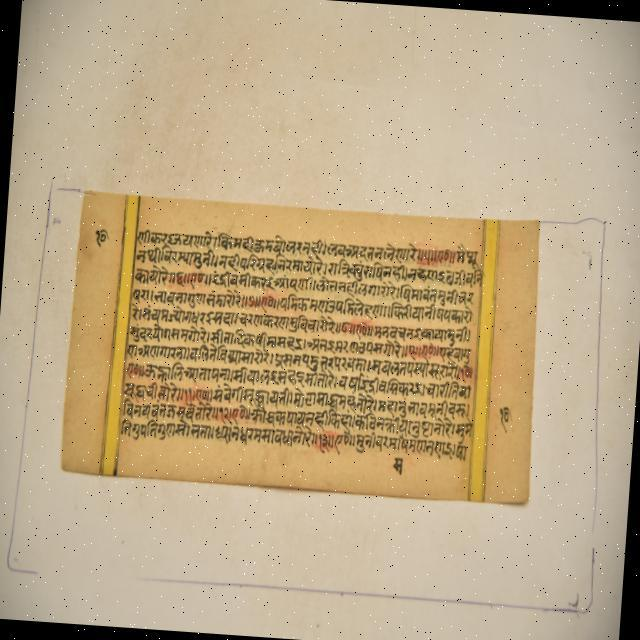text_paragraph: (60, 190, 539, 506)
